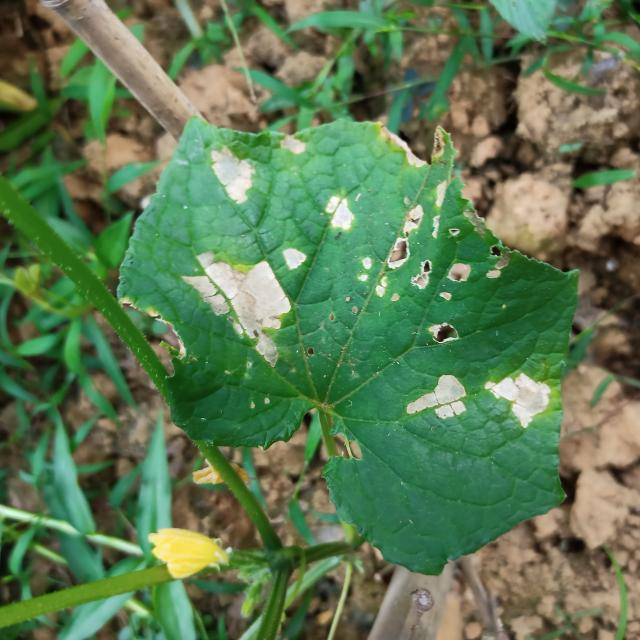disease_cucumber: (190, 249, 290, 362), (353, 204, 434, 301), (480, 364, 554, 437), (432, 255, 479, 347), (403, 371, 471, 427), (205, 144, 260, 206), (320, 186, 358, 236), (275, 132, 308, 160), (280, 246, 306, 272)
